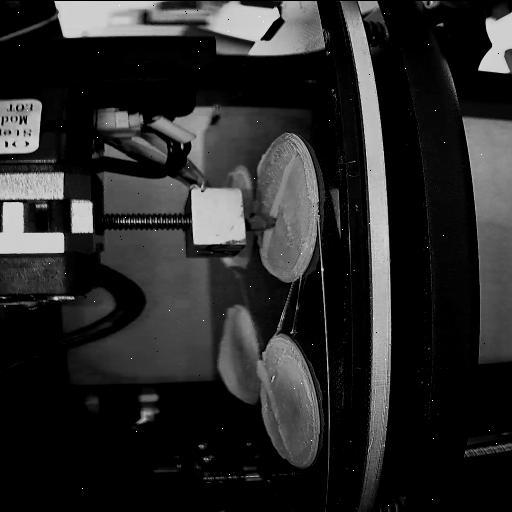over_extrusion: (254, 358, 290, 452), (214, 306, 248, 400), (263, 154, 297, 216), (258, 228, 272, 258), (218, 256, 242, 270)
